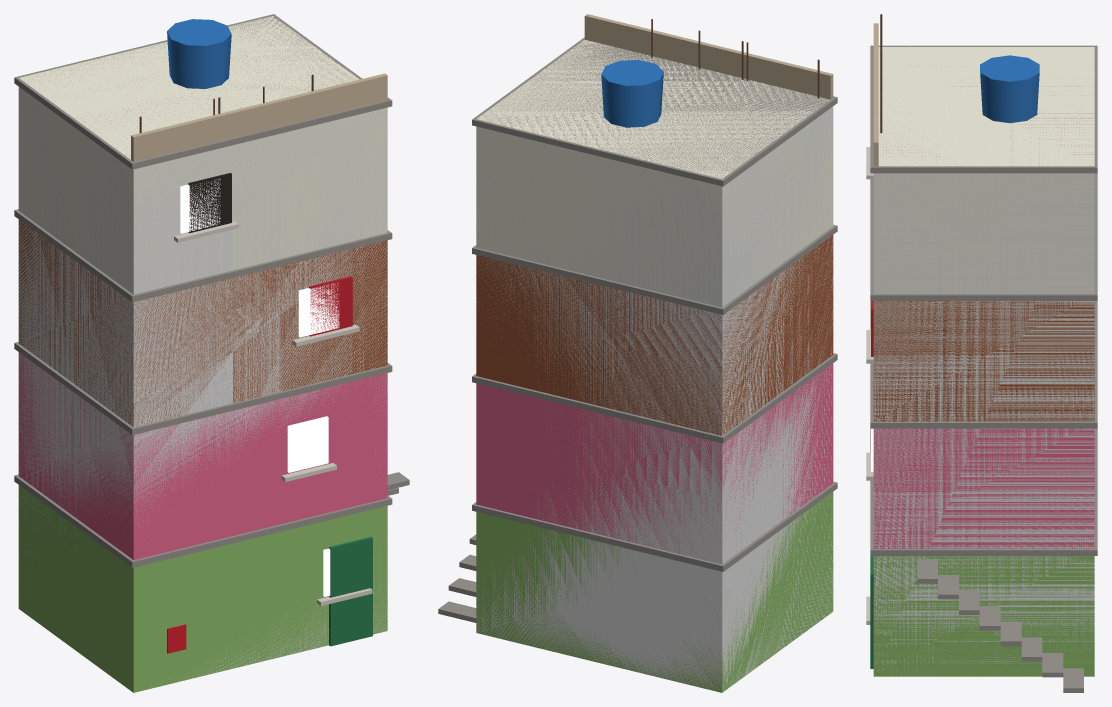
Rendered from casa_favela_5.glb.
3 renders of one model, left to right at view 1: azimuth 30°, elevation 25°; view 2: azimuth 150°, elevation 25°; view 3: azimuth 270°, elevation 25°, orthographic. The views are drawn at different scales.
Visible parts, largest first — view 1: casa_favela_5_Malla, COL_0; view 2: casa_favela_5_Malla, COL_0; view 3: casa_favela_5_Malla, COL_0.
Part boxes in pixels (x1,y1,x2,y2): casa_favela_5_Malla: [14, 14, 409, 692]; COL_0: [18, 87, 387, 685]; casa_favela_5_Malla: [438, 14, 837, 692]; COL_0: [476, 106, 833, 692]; casa_favela_5_Malla: [866, 14, 1097, 692]; COL_0: [873, 173, 1094, 674].
Size of the model in its own units: 6.42 by 11.7 by 4.44.
